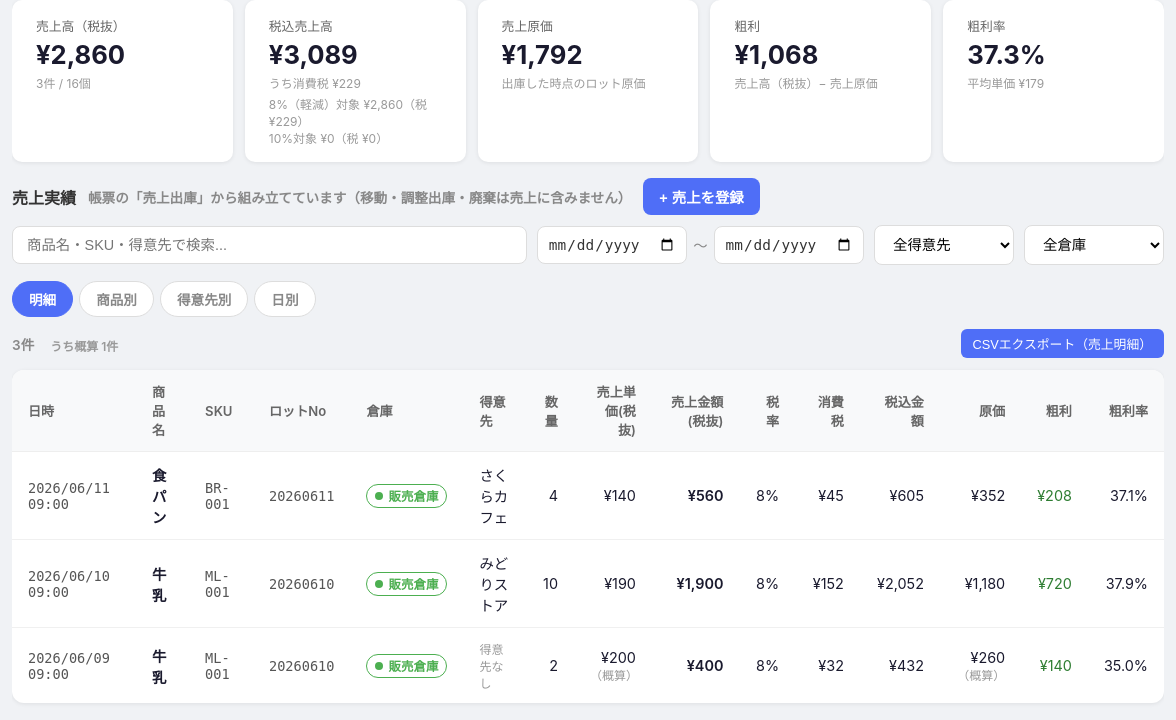
Scenario: SalesView — 集計の切り替え › 得意先別では得意先なしもまとめて並ぶ
Click the button "得意先別" at (204, 299), box x1=160 y1=281 x2=248 y2=317
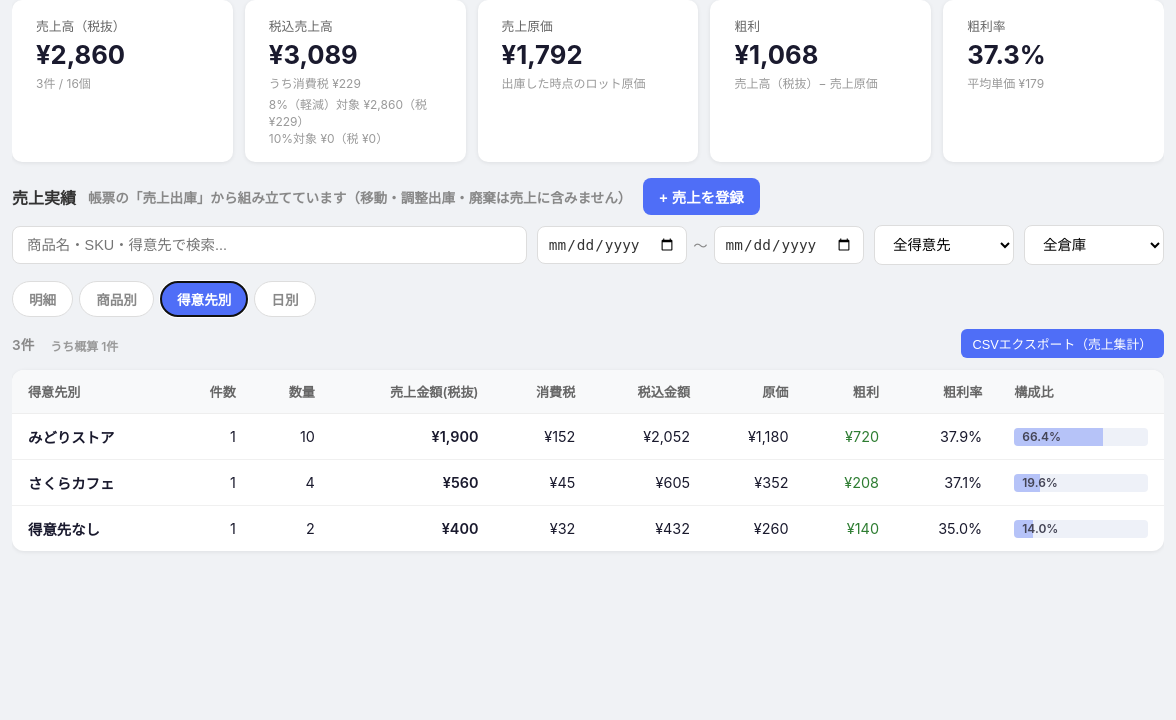
Now the text "得意先なし" is shown, box x1=28 y1=521 x2=100 y2=538
